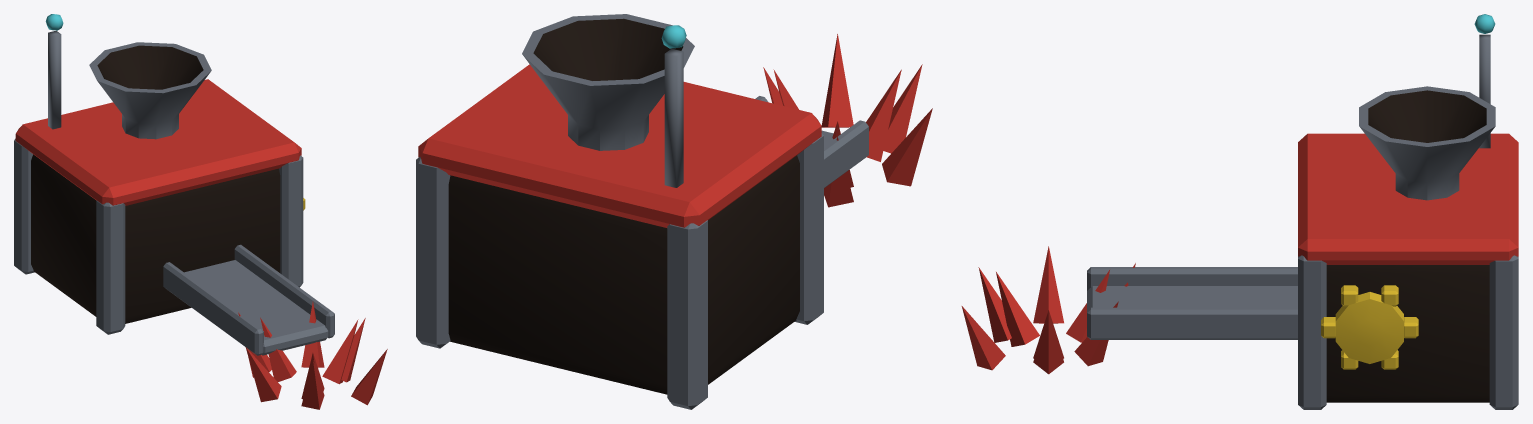
The picture shows the model from 3 angles, left to right: view 1: azimuth 30°, elevation 25°; view 2: azimuth 150°, elevation 25°; view 3: azimuth 270°, elevation 25°; orthographic projection. The views are drawn at different scales.
Visible parts, largest first — view 1: espinhos_0_base, espinhos_1_torreta; view 2: espinhos_0_base, espinhos_1_torreta; view 3: espinhos_0_base, espinhos_1_torreta.
Part boxes in pixels (<box>): espinhos_0_base: <box>14,14,387,409</box>; espinhos_1_torreta: <box>163,244,334,355</box>; espinhos_0_base: <box>416,14,932,409</box>; espinhos_1_torreta: <box>755,96,868,187</box>; espinhos_0_base: <box>961,14,1518,409</box>; espinhos_1_torreta: <box>1087,267,1297,339</box>.
Size of the model in its own units: 0.596 by 0.6918 by 1.16.
